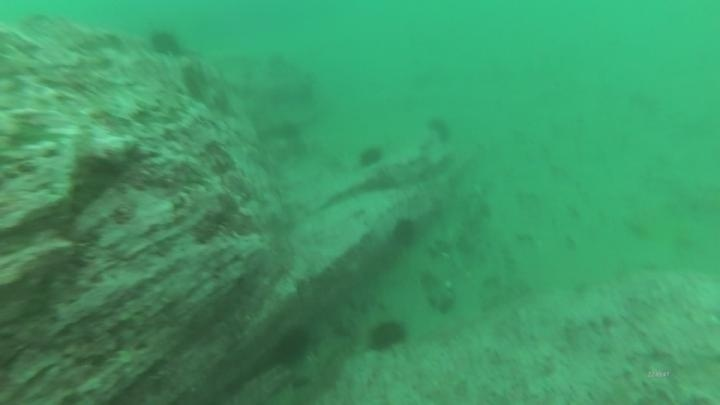echinus: (271, 324, 314, 367), (365, 317, 409, 355), (147, 27, 185, 60), (389, 216, 421, 251), (424, 114, 455, 146), (355, 143, 386, 172)
